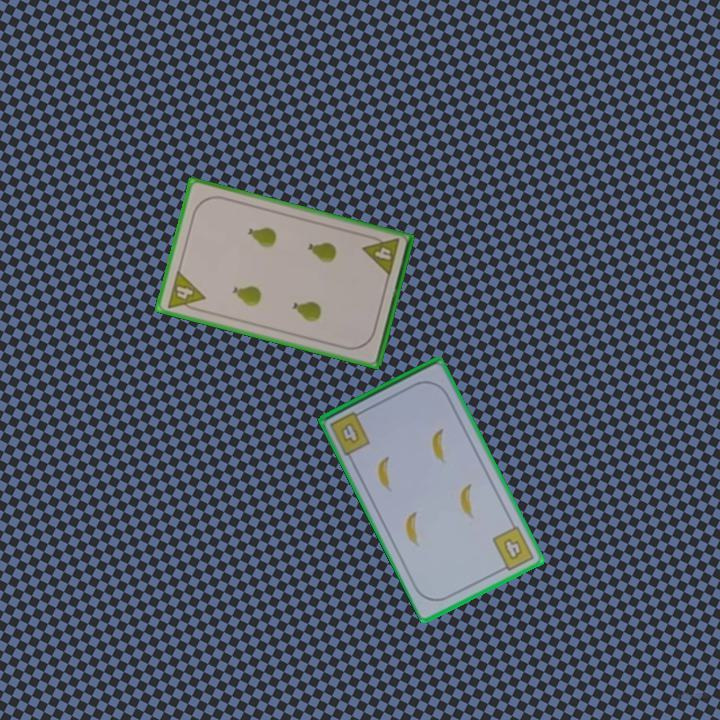4b: (489, 522, 537, 575), (326, 406, 373, 458)
4p: (163, 267, 208, 315), (359, 232, 402, 279)
